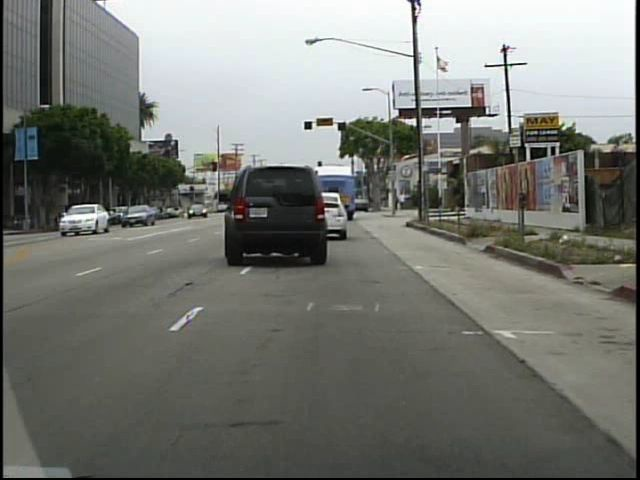person: (393, 189, 401, 214), (400, 189, 408, 212)
